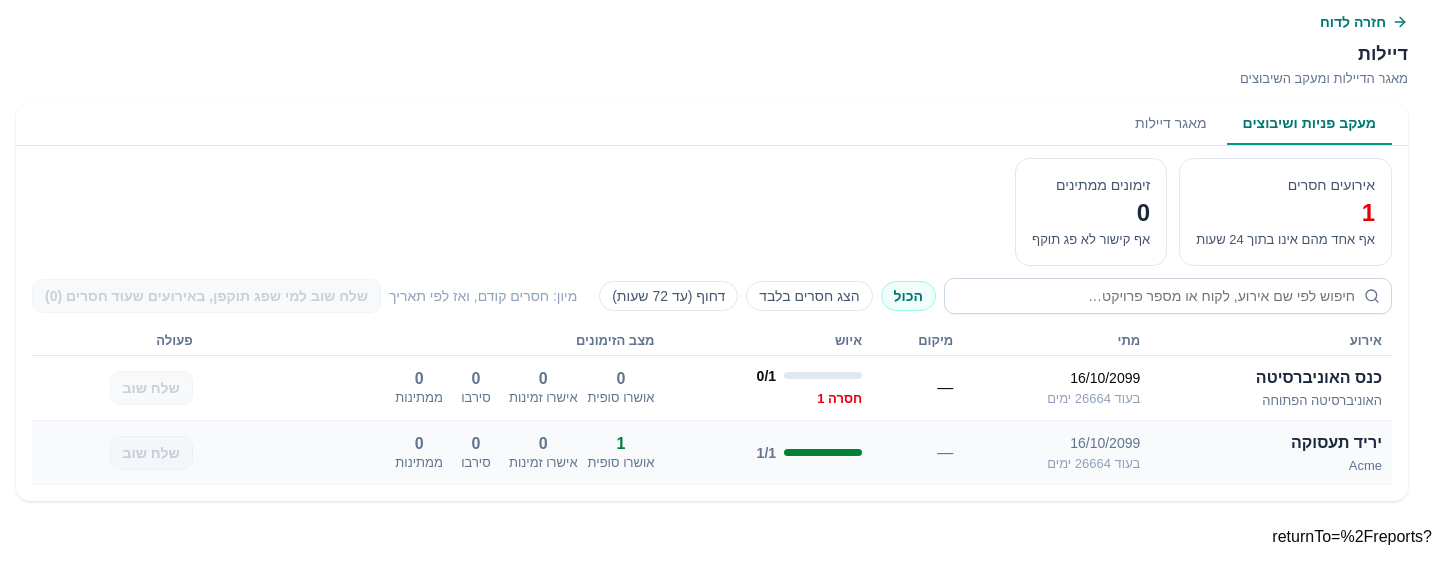
Scenario: Hostesses search across both real tabs › finds an event by 701
Expected: the row with test id "overview-row-702" is shown, [32, 420, 1392, 485]
Type "701" into the field with test id "overview-search" at point(1168, 296), box [944, 278, 1392, 314]
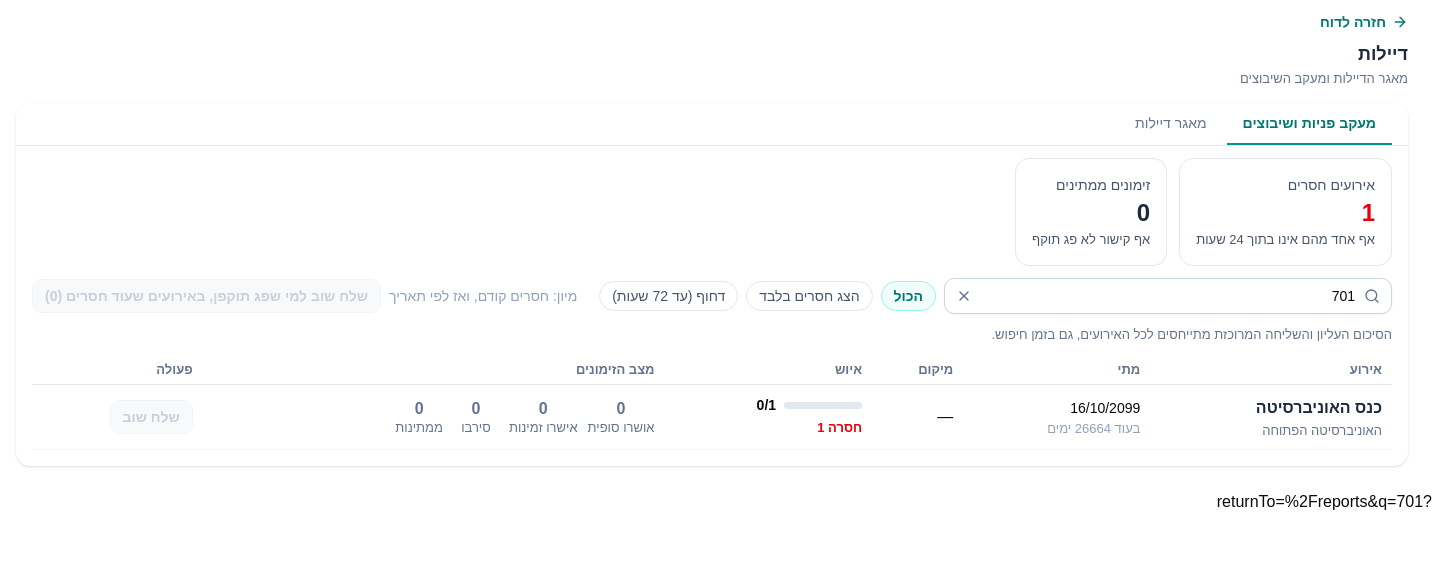
Expected: the row with test id "overview-row-701" is shown, [32, 385, 1392, 450]
Now the row with test id "overview-row-702" is gone
